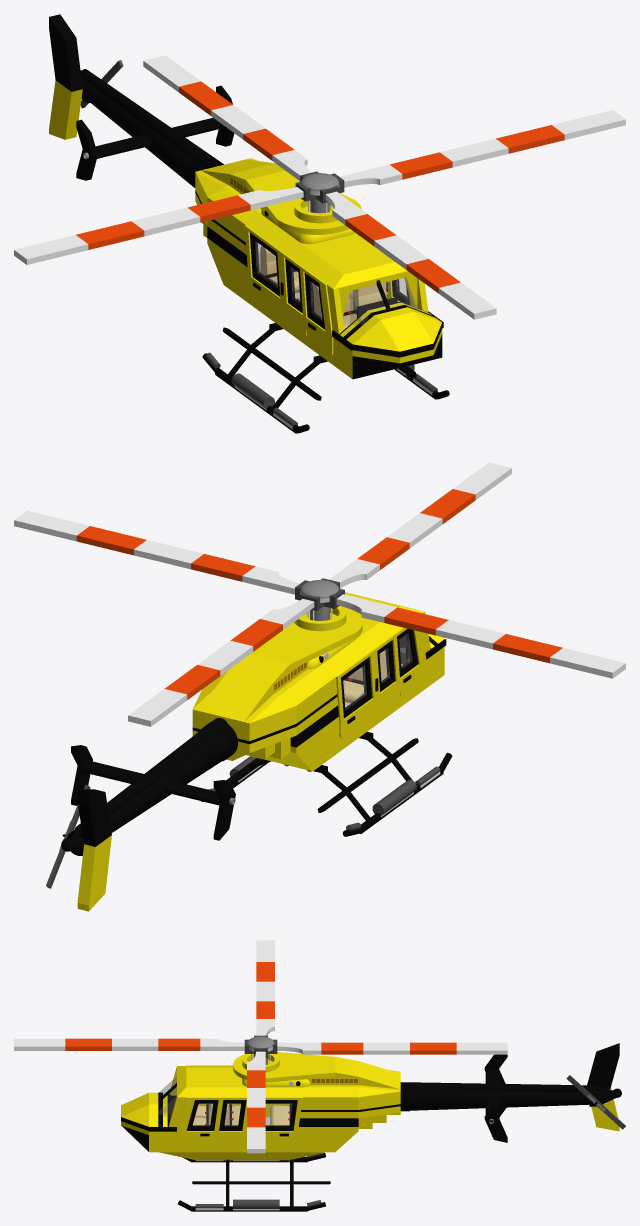
Rendered from 黄色直升机.gltf.
3 views of the same model, one above another, from view 1: azimuth 30°, elevation 25°; view 2: azimuth 150°, elevation 25°; view 3: azimuth 270°, elevation 25° (orthographic). The views are drawn at different scales.
Parts seen in each view (by area): view 1: box (×24), wedge (×7), truncatedCone (×2), halfCylinder (×2), cornerPyramid3, cornerPyramid4, cylinder; view 2: box (×24), wedge (×8), truncatedCone (×2), halfCylinder, annulus, cylinder; view 3: box (×23), truncatedCone (×2), wedge (×5), truncatedPyramid4, cylinder.
Boxes of the visible parts, left/top/right/bottom form: box (×24): left=14, top=55, right=625, bottom=398; wedge (×7): left=65, top=38, right=433, bottom=351; truncatedCone (×2): left=80, top=69, right=223, bottom=187; halfCylinder (×2): left=97, top=123, right=361, bottom=234; cornerPyramid3: left=353, top=320, right=399, bottom=351; cornerPyramid4: left=352, top=356, right=399, bottom=379; cylinder: left=231, top=373, right=274, bottom=408; box (×24): left=14, top=462, right=625, bottom=810; wedge (×8): left=77, top=606, right=405, bottom=905; truncatedCone (×2): left=75, top=718, right=230, bottom=832; halfCylinder: left=82, top=766, right=220, bottom=805; annulus: left=294, top=606, right=346, bottom=631; cylinder: left=372, top=779, right=416, bottom=815; box (×23): left=14, top=940, right=625, bottom=1184; truncatedCone (×2): left=400, top=1082, right=600, bottom=1110; wedge (×5): left=186, top=1057, right=400, bottom=1109; truncatedPyramid4: left=159, top=1152, right=324, bottom=1160; cylinder: left=233, top=1199, right=279, bottom=1208.
Size of the model in its own units: 10.6 by 3.47 by 13.14.
